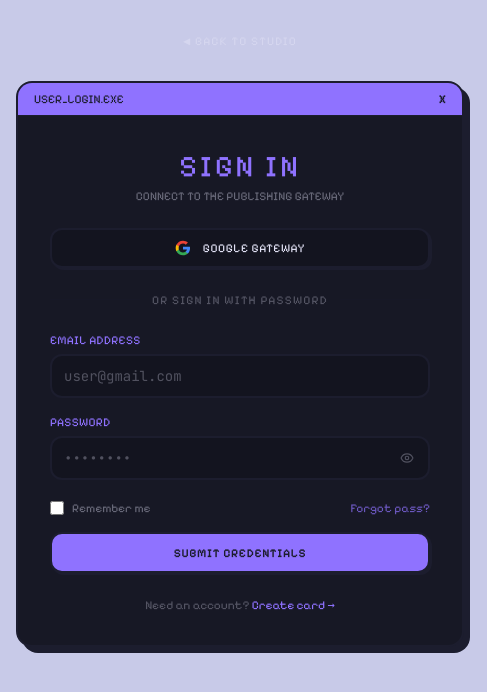
Test: Auth Pages - Login & Register › Login Component › displays error when fields are empty on submit
Step 1. Click the button "SUBMIT CREDENTIALS" → [240, 552], box [50,532,430,573]
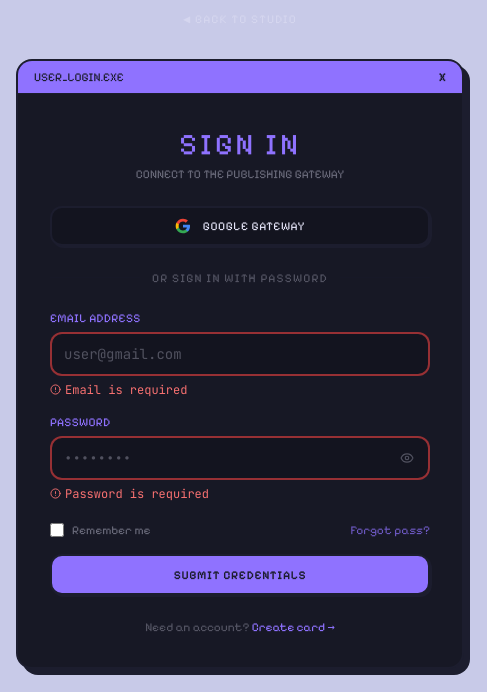
Check: the text "Email is required" is shown, box [50,382,187,398]
